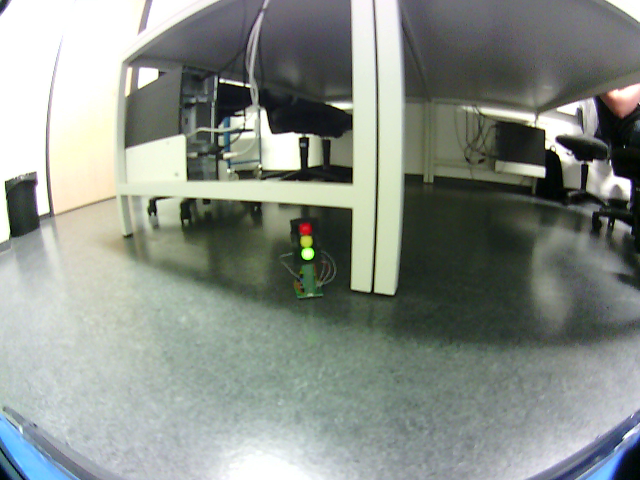green trafficlight: (292, 220, 320, 263)
